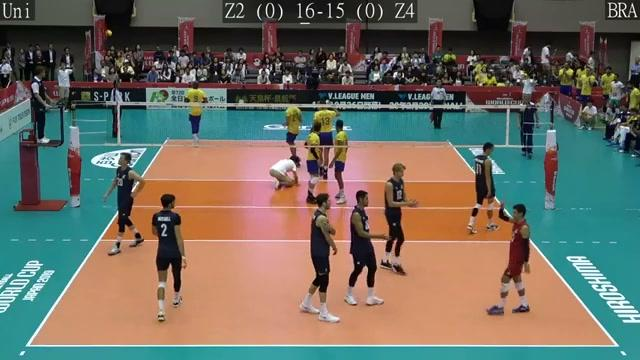ball: (104, 30, 113, 39)
